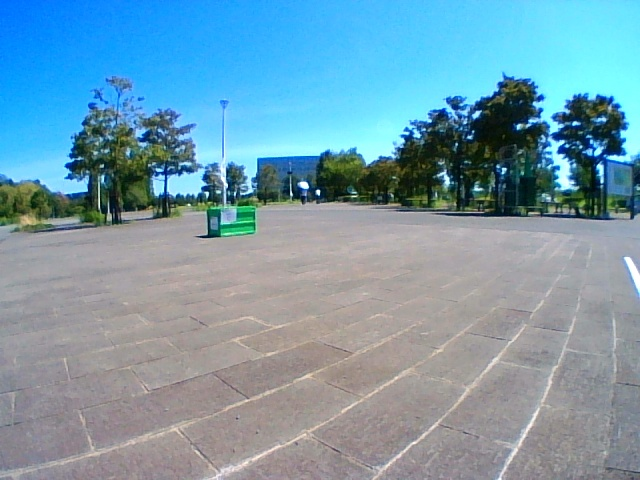green_box: (208, 206, 255, 236)
tag: (220, 209, 234, 223)
